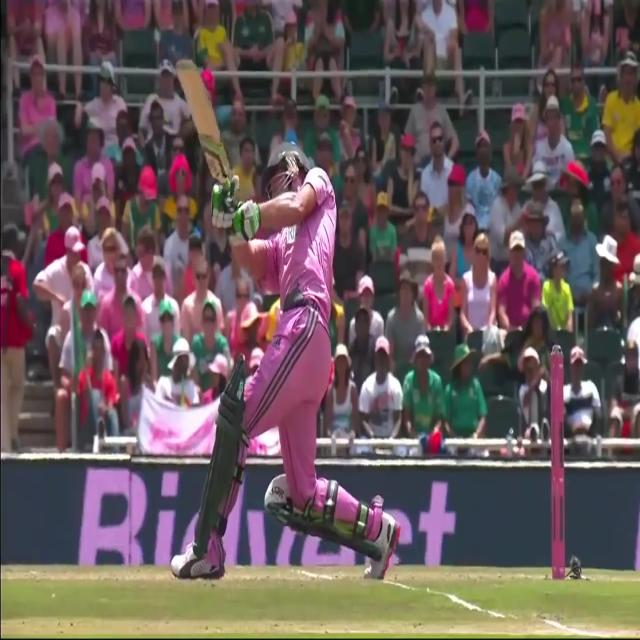Ball: (169, 142, 400, 582)
